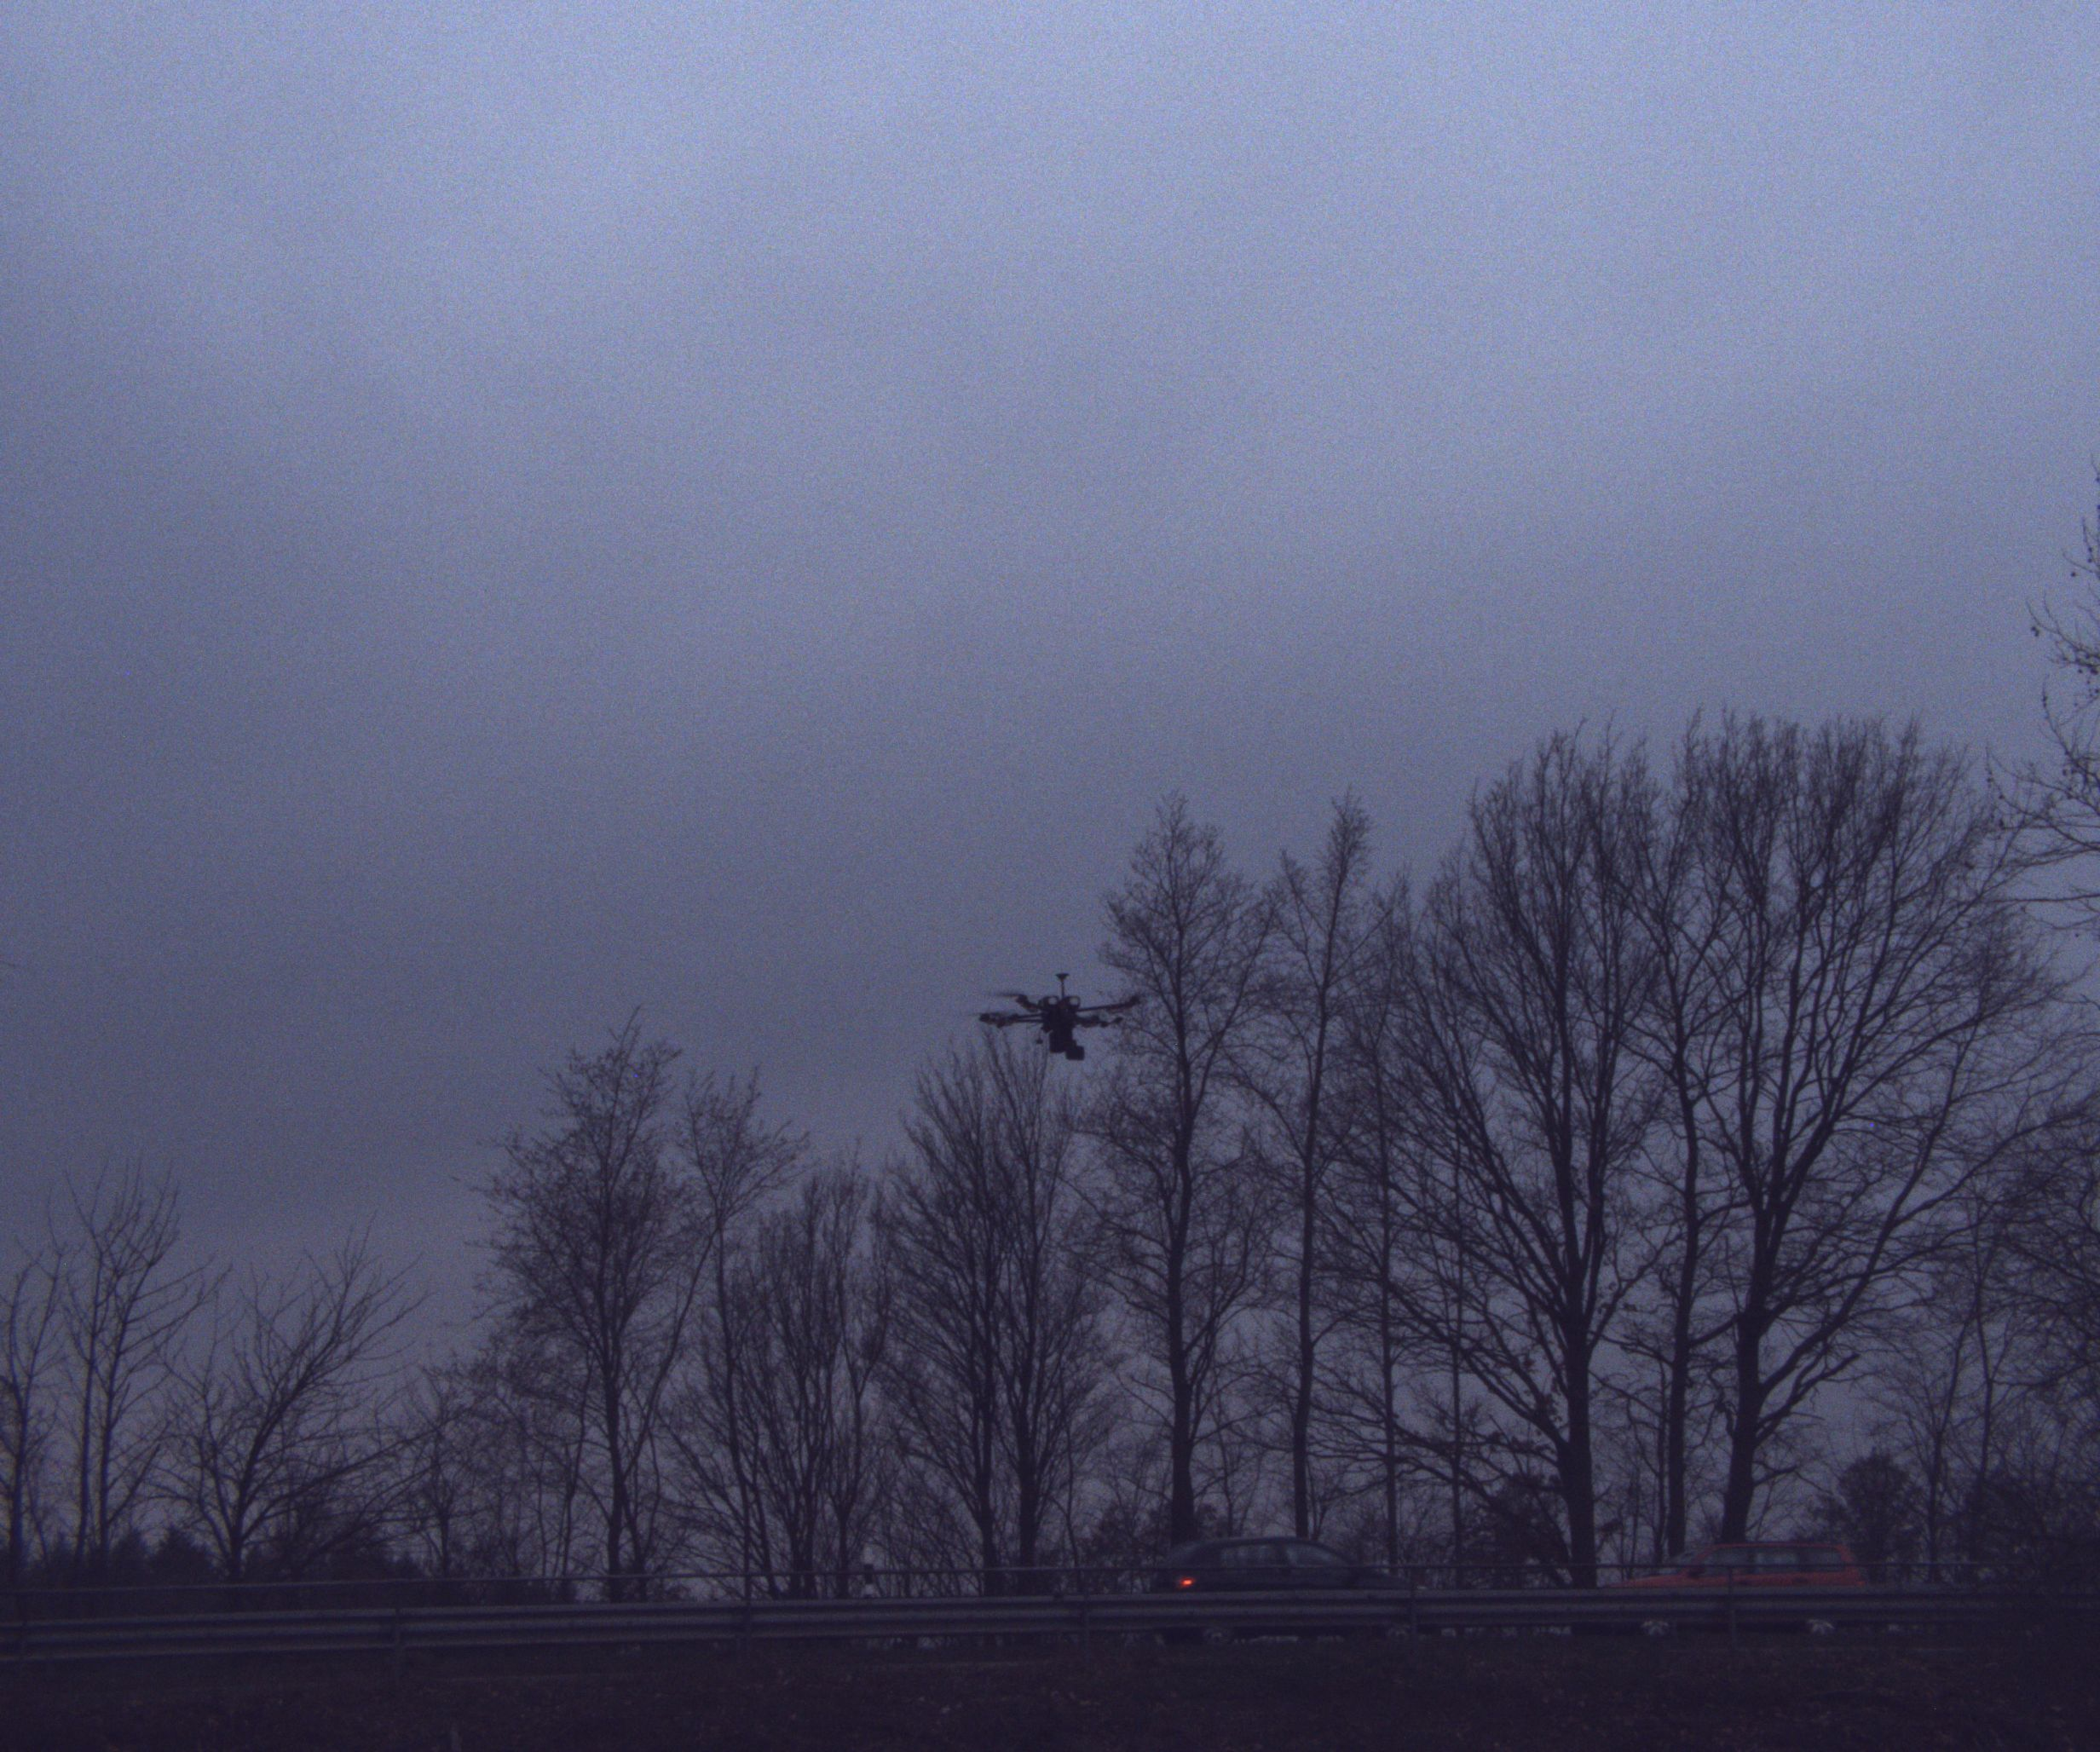Drohne: (972, 974, 1198, 1116)
